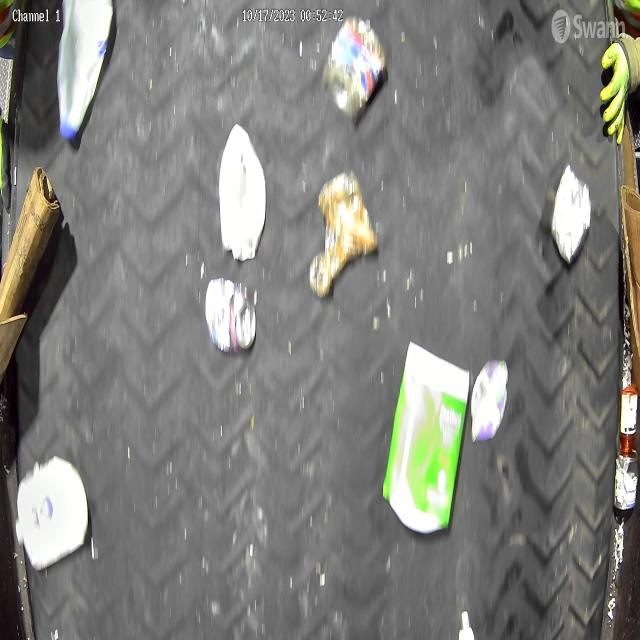can: (205, 277, 258, 356), (613, 449, 640, 509)
milk_jug: (57, 0, 112, 139)
